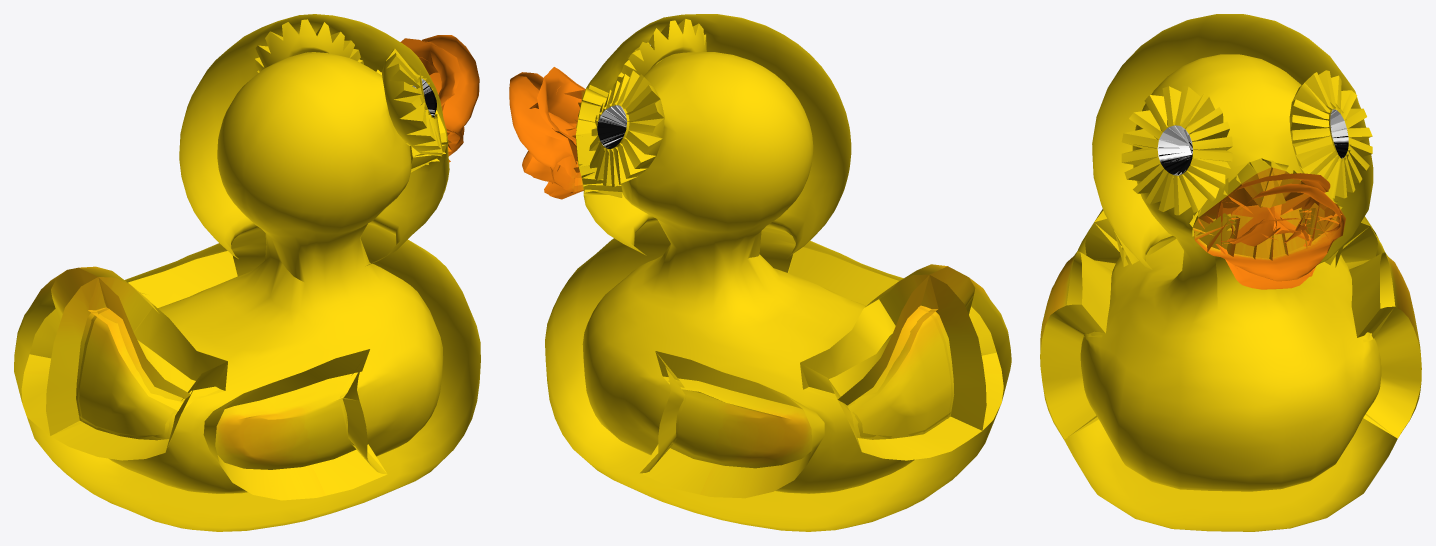
3 views of the same model, side by side, from view 1: azimuth 30°, elevation 25°; view 2: azimuth 150°, elevation 25°; view 3: azimuth 270°, elevation 25° (orthographic). The views are drawn at different scales.
Parts seen in each view (by area): view 1: LOD3spShape_1; view 2: LOD3spShape_1; view 3: LOD3spShape_1.
Part boxes in pixels (box(x1,y1,x2,y2)): LOD3spShape_1: box(14, 14, 480, 531); LOD3spShape_1: box(509, 14, 1011, 531); LOD3spShape_1: box(1040, 14, 1421, 531).
Size of the model in its own units: 1.65 by 1.54 by 1.15.
